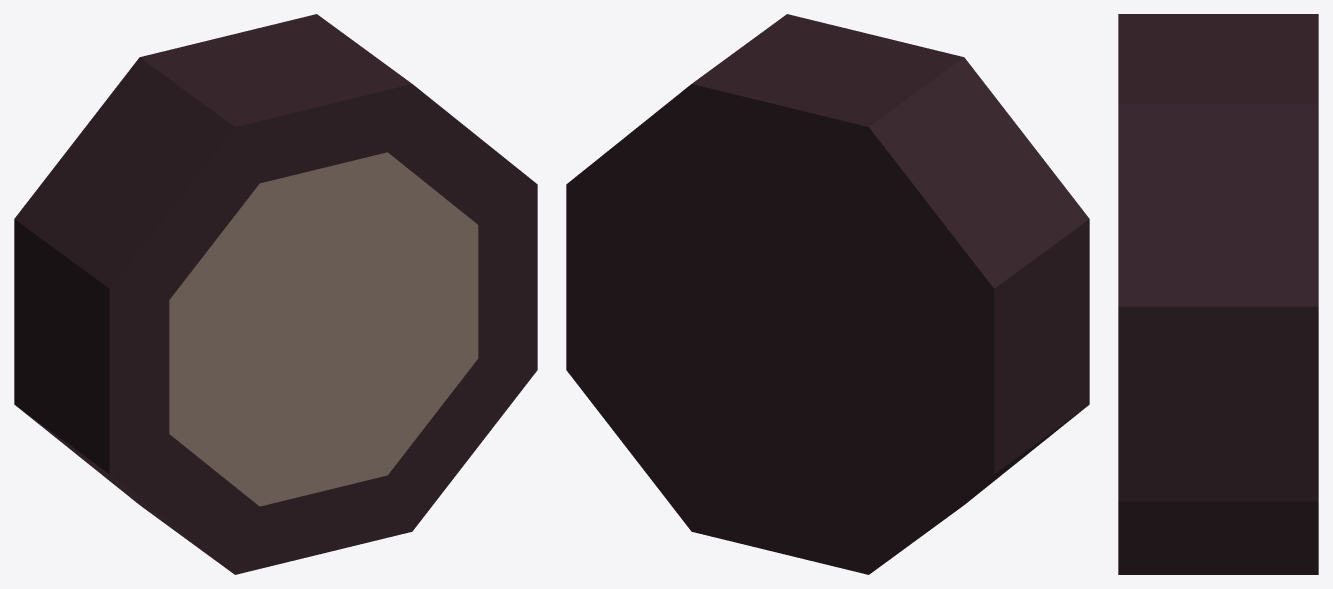
The model's file is Wheel.fbx.
3 renders of one model, left to right at view 1: azimuth 30°, elevation 25°; view 2: azimuth 150°, elevation 25°; view 3: azimuth 270°, elevation 25°, orthographic. The views are drawn at different scales.
Parts seen in each view (by area): view 1: Wheel; view 2: Wheel; view 3: Wheel.
Part boxes in pixels (x1,y1,x2,y2): Wheel: (14,14,537,574); Wheel: (566,14,1089,574); Wheel: (1118,14,1318,574).
Size of the model in its own units: 0.6467 by 0.6467 by 0.25.
